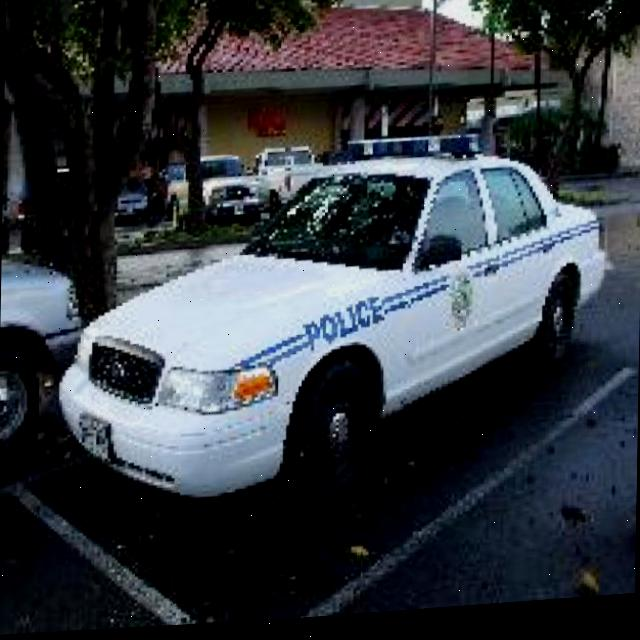emergency: (50, 120, 613, 524)
